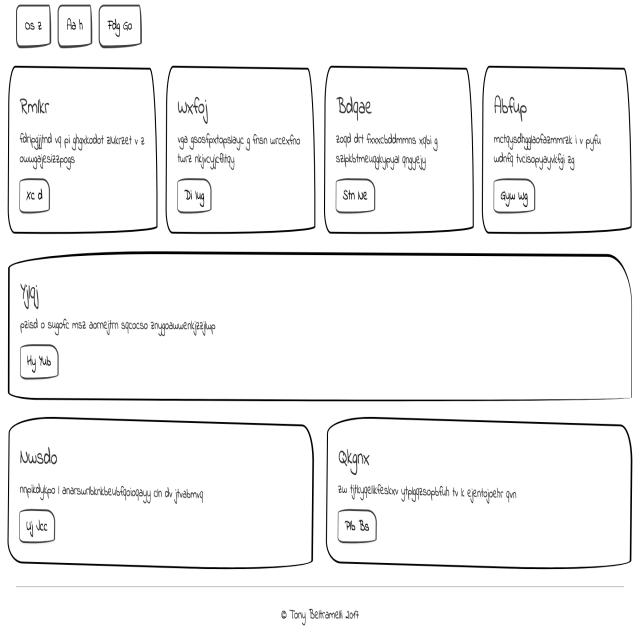Button: (16, 168, 63, 224), (334, 165, 377, 220), (489, 173, 538, 221), (172, 167, 216, 217), (17, 339, 61, 384), (335, 510, 382, 549), (19, 514, 62, 552)
Card: (8, 252, 634, 407), (7, 418, 319, 572), (327, 418, 636, 572), (164, 64, 318, 242), (325, 63, 477, 241), (6, 62, 158, 236), (486, 63, 633, 241)
Footer: (2, 579, 640, 640)
Heading 6: (13, 275, 57, 316), (334, 441, 379, 481), (334, 88, 377, 125), (492, 89, 534, 125), (19, 438, 61, 474), (172, 95, 216, 125), (19, 95, 55, 129)
Navigation Bar: (13, 2, 152, 59)
Paragraph: (21, 474, 223, 509), (14, 311, 223, 342), (335, 475, 528, 507), (18, 129, 153, 174), (172, 126, 304, 170), (333, 125, 447, 174), (492, 129, 607, 174)
